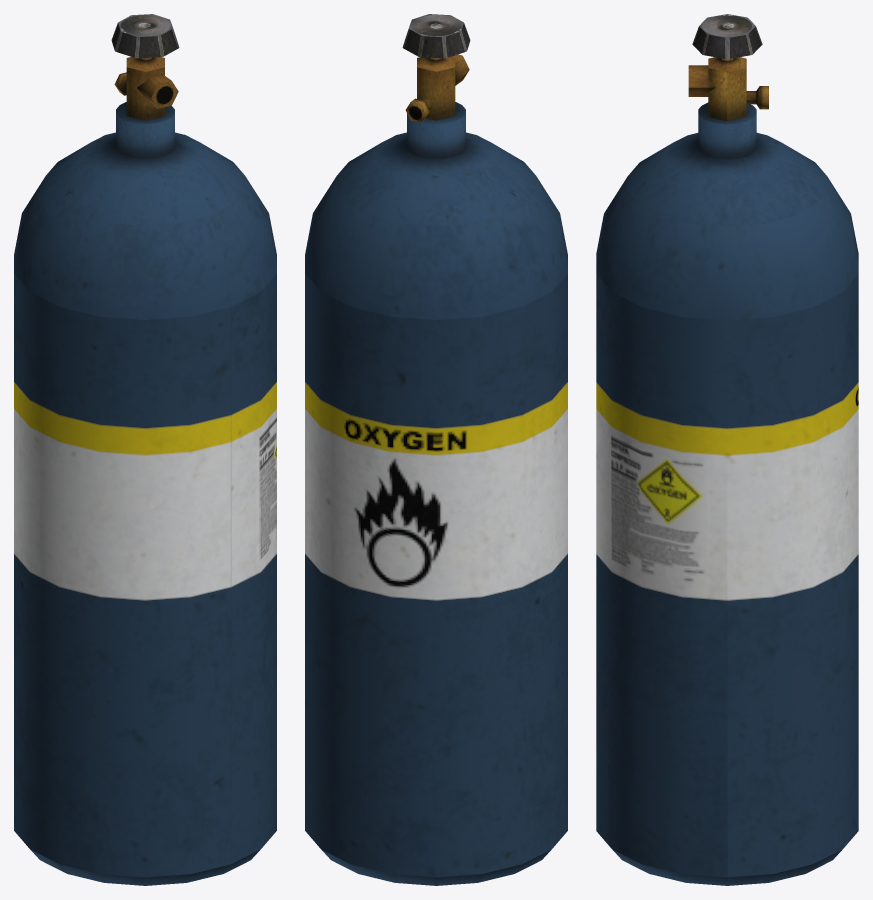
The model's file is bombona.fbx.
The picture shows the model from 3 angles, left to right: view 1: azimuth 30°, elevation 25°; view 2: azimuth 150°, elevation 25°; view 3: azimuth 270°, elevation 25°; orthographic projection.
Visible parts, largest first — view 1: oxycan; view 2: oxycan; view 3: oxycan.
Part boxes in pixels (<box>): oxycan: <box>14,14,276,885</box>; oxycan: <box>305,14,567,885</box>; oxycan: <box>596,14,858,885</box>.
Bounding box in the file's own units: 77.06 × 258 × 75.89.
Materials: 1 (1 with a texture image).
